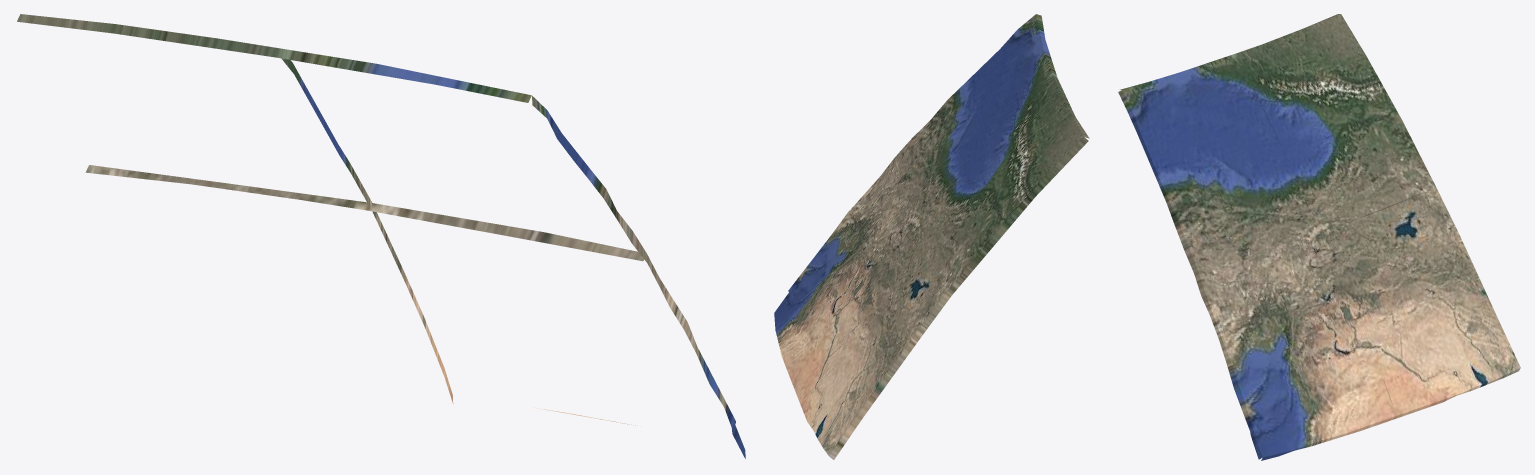
3 renders of one model, left to right at view 1: azimuth 30°, elevation 25°; view 2: azimuth 150°, elevation 25°; view 3: azimuth 270°, elevation 25°, orthographic. The views are drawn at different scales.
Bounding box in the file's own units: 1232411 × 985850 × 1263110.
1 material, 1 textured.
